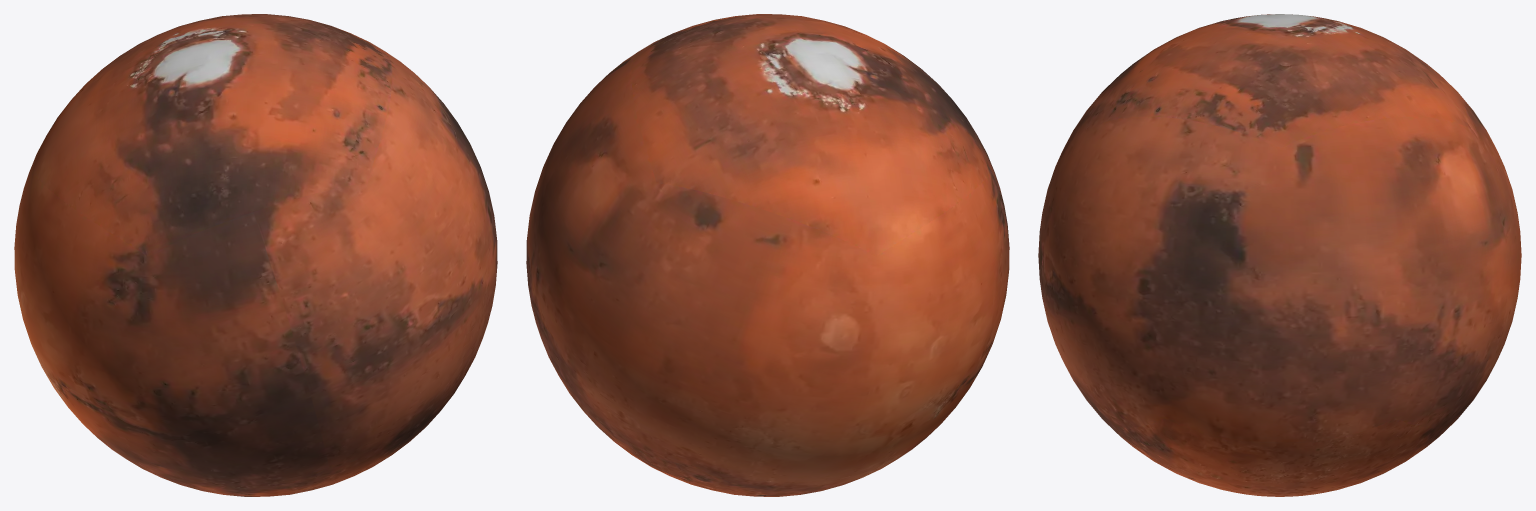
The model's file is mars-optimized3-compressed.glb.
3 renders of one model, left to right at view 1: azimuth 30°, elevation 25°; view 2: azimuth 150°, elevation 25°; view 3: azimuth 270°, elevation 25°, orthographic.
Visible parts, largest first — view 1: mars; view 2: mars; view 3: mars.
Part boxes in pixels (x1,y1,x2,y2): mars: [14, 14, 497, 496]; mars: [526, 14, 1009, 496]; mars: [1038, 14, 1521, 496].
Size of the model in its own units: 99.86 by 99.94 by 100.
Materials: 1 (1 with a texture image).
